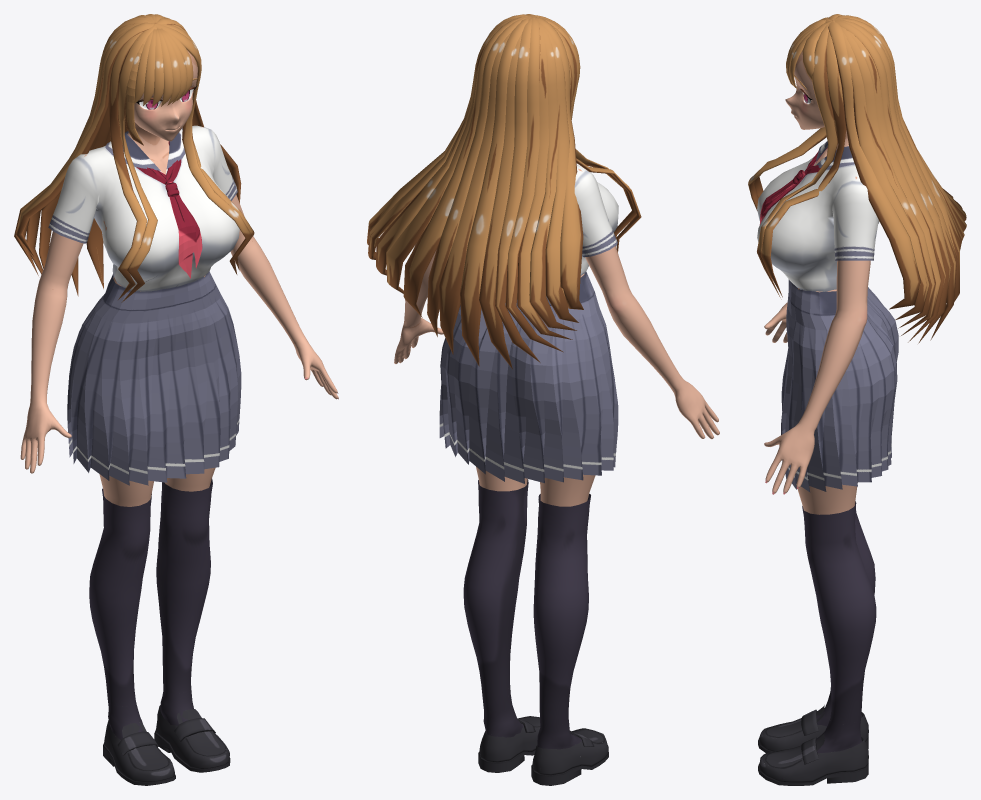
Rendered from mitsuno-student.glb.
3 views of the same model, side by side, from view 1: azimuth 30°, elevation 25°; view 2: azimuth 150°, elevation 25°; view 3: azimuth 270°, elevation 25° (orthographic). The views are drawn at different scales.
Parts seen in each view (by area): view 1: skirt, socks, Hair, shirt, Body, shoe, tie; view 2: Hair, skirt, socks, Body, shoe, shirt; view 3: Hair, skirt, socks, Body, shirt, shoe, tie.
Boxes of the visible parts, <box> form: skirt: <box>67,271,241,485</box>; socks: <box>89,479,212,776</box>; Hair: <box>14,14,254,302</box>; shirt: <box>48,125,239,291</box>; Body: <box>20,50,338,506</box>; shoe: <box>103,705,230,785</box>; tie: <box>136,141,202,278</box>; Hair: <box>367,14,641,369</box>; skirt: <box>439,271,618,483</box>; socks: <box>463,479,607,752</box>; Body: <box>394,168,719,506</box>; shoe: <box>478,716,608,785</box>; shirt: <box>574,165,618,275</box>; Hair: <box>748,14,966,343</box>; skirt: <box>781,279,898,492</box>; socks: <box>782,501,876,778</box>; Body: <box>764,51,870,514</box>; shirt: <box>757,141,879,291</box>; shoe: <box>758,705,868,785</box>; tie: <box>759,148,827,224</box>.
Size of the model in its own units: 2.06 by 4.69 by 1.25.
Materials: 4 (3 with a texture image).
